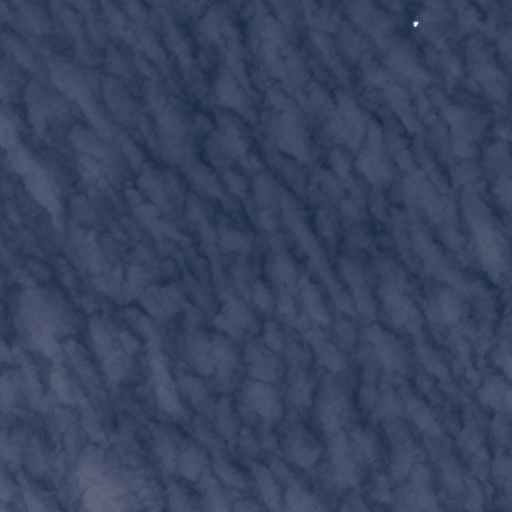Iceberg: (413, 21, 418, 27), (434, 115, 435, 117)
